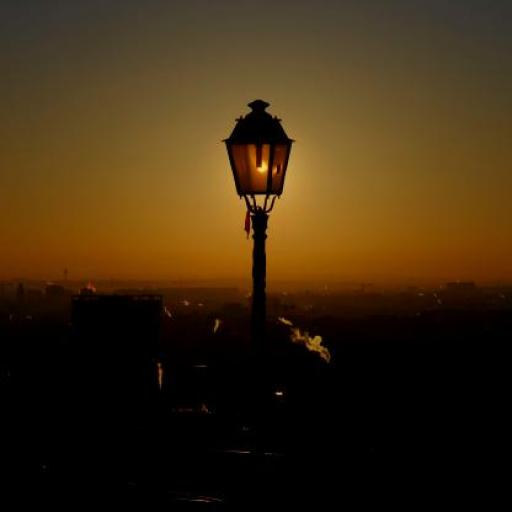street light: (219, 100, 297, 478)
